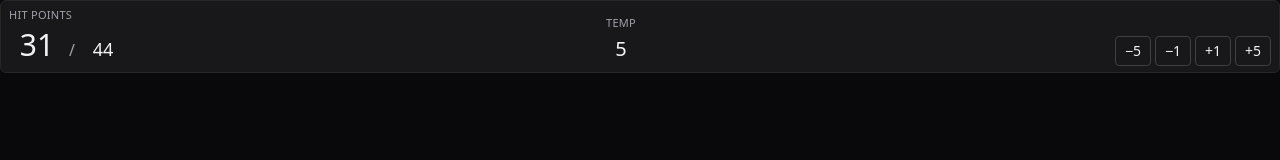
Test case: HpBlock › lowering max clamps current
The image size is (1280, 160).
Replace the text in the field named "Maximum hit points" with "20" at [103, 48], box [79, 32, 127, 66]
Then press Enter
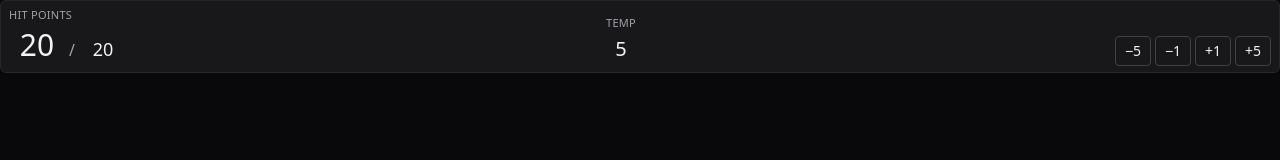
Expected: the field named "Current hit points" holds "20", [9, 24, 65, 66]
